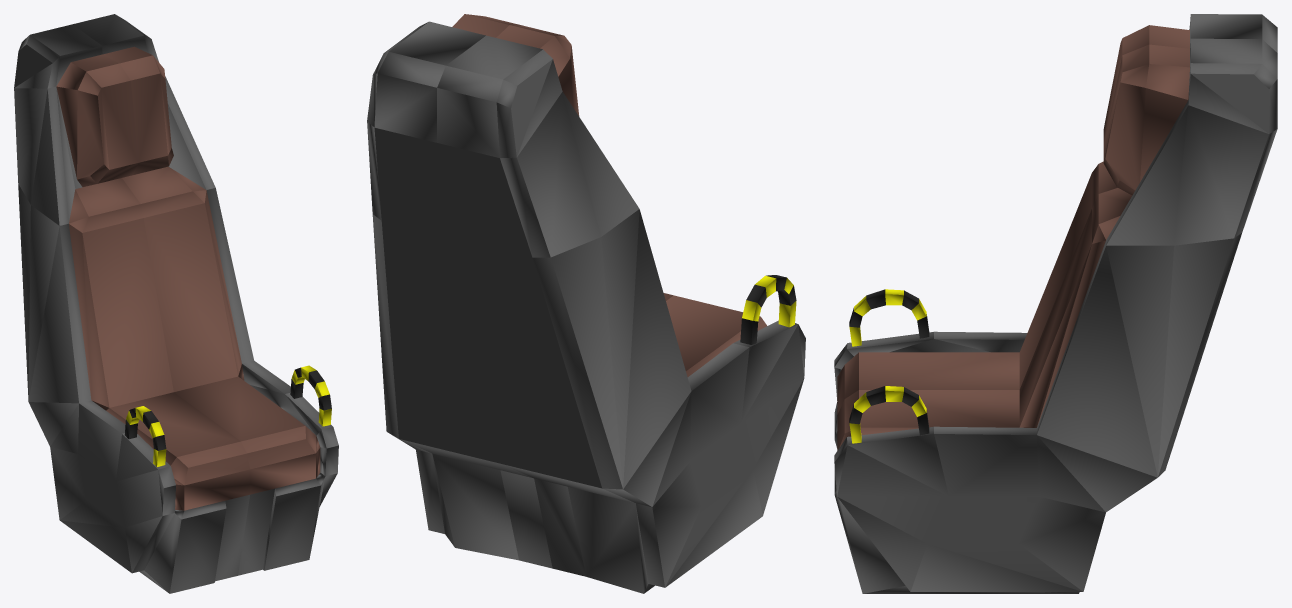
File: ejection_seat.glb
3 renders of one model, left to right at view 1: azimuth 30°, elevation 25°; view 2: azimuth 150°, elevation 25°; view 3: azimuth 270°, elevation 25°, orthographic. The views are drawn at different scales.
Visible parts, largest first — view 1: tripo_node_d88eb3fb-7d4c-4aa6-b7b1-d5001e71379c.001; view 2: tripo_node_d88eb3fb-7d4c-4aa6-b7b1-d5001e71379c.001; view 3: tripo_node_d88eb3fb-7d4c-4aa6-b7b1-d5001e71379c.001.
Part boxes in pixels (left/top/right/bottom): tripo_node_d88eb3fb-7d4c-4aa6-b7b1-d5001e71379c.001: left=14, top=14, right=338, bottom=593; tripo_node_d88eb3fb-7d4c-4aa6-b7b1-d5001e71379c.001: left=367, top=14, right=805, bottom=593; tripo_node_d88eb3fb-7d4c-4aa6-b7b1-d5001e71379c.001: left=834, top=14, right=1277, bottom=593.
Size of the model in its own units: 0.5807 by 1.36 by 1.06.
